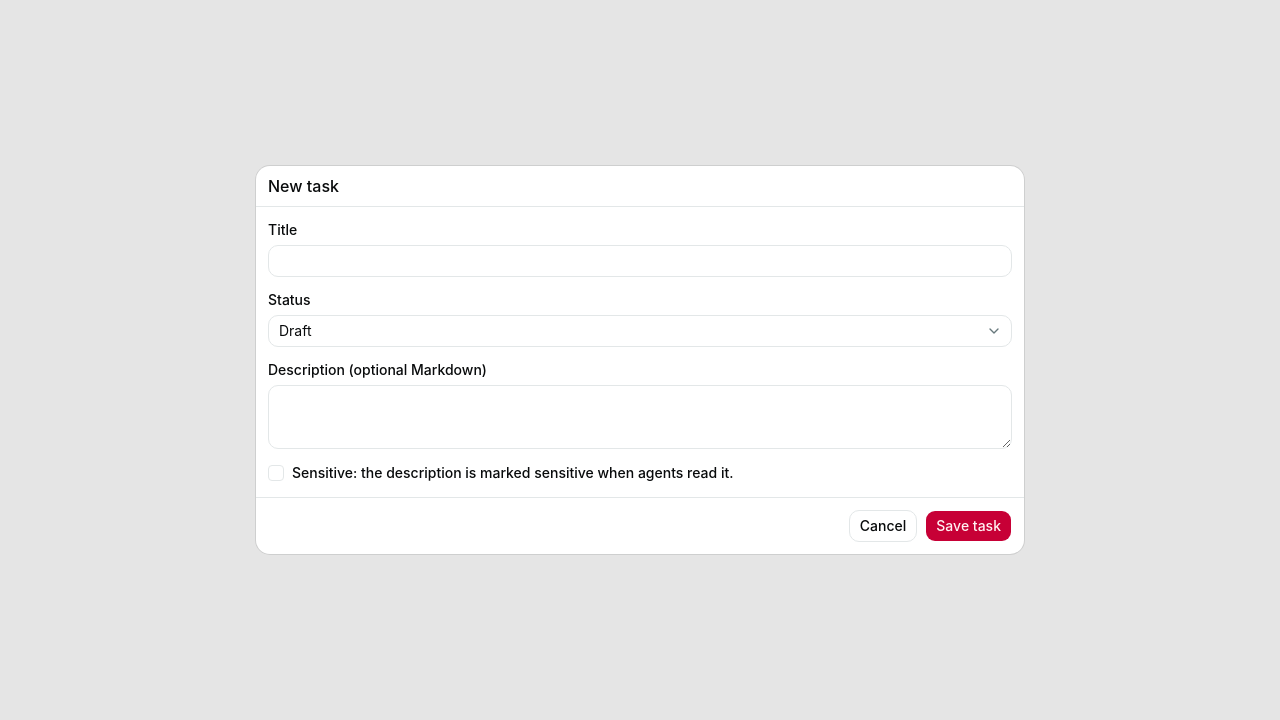
task resource dialog ownership › submits the create form through its explicit dialog footer
In the field with id "task-title": [640, 261] box [268,245,1012,277], type "Saved name"
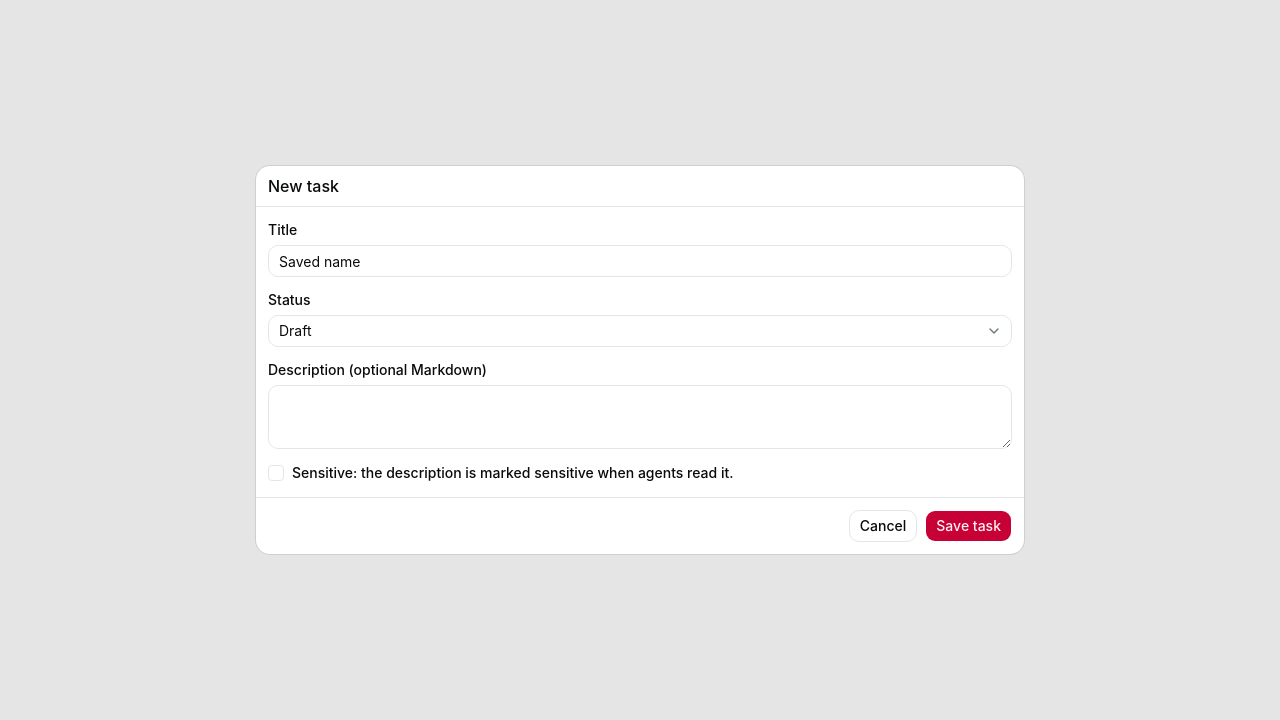
Click the button "Save task": [969, 526] box [925,510,1012,542]
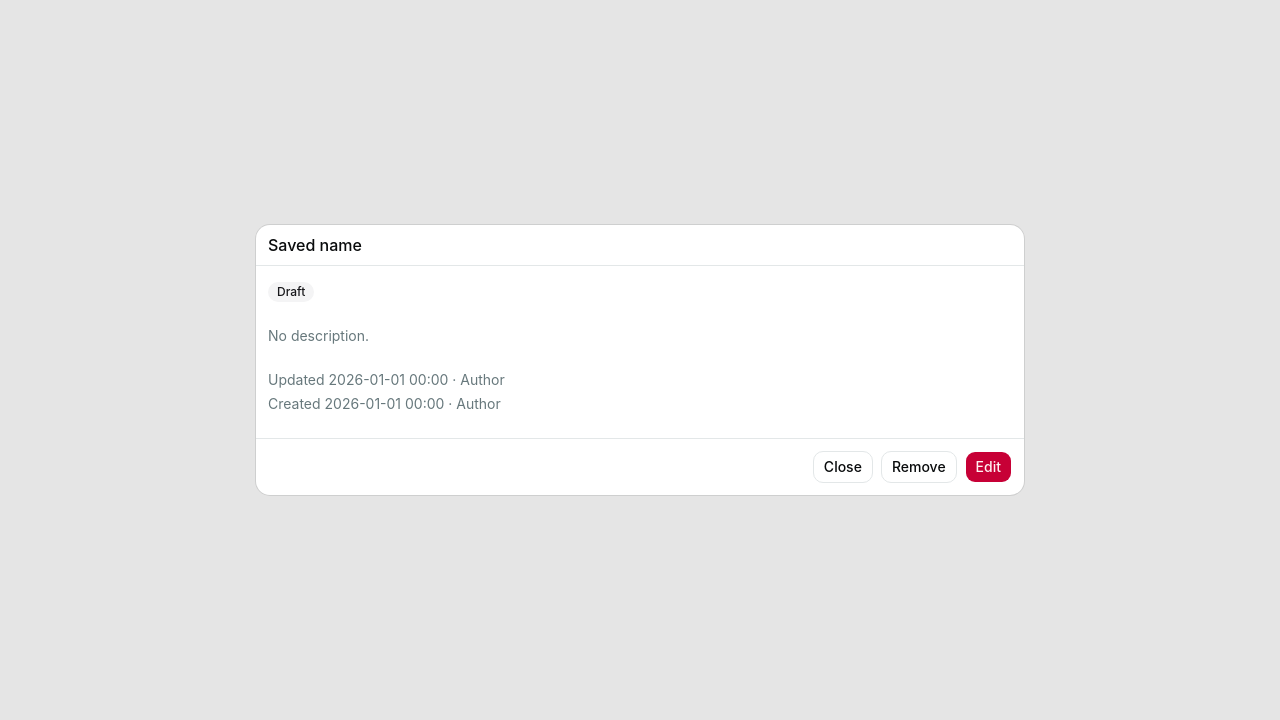
Check: the heading "Saved name" is shown, box [268,235,362,255]
